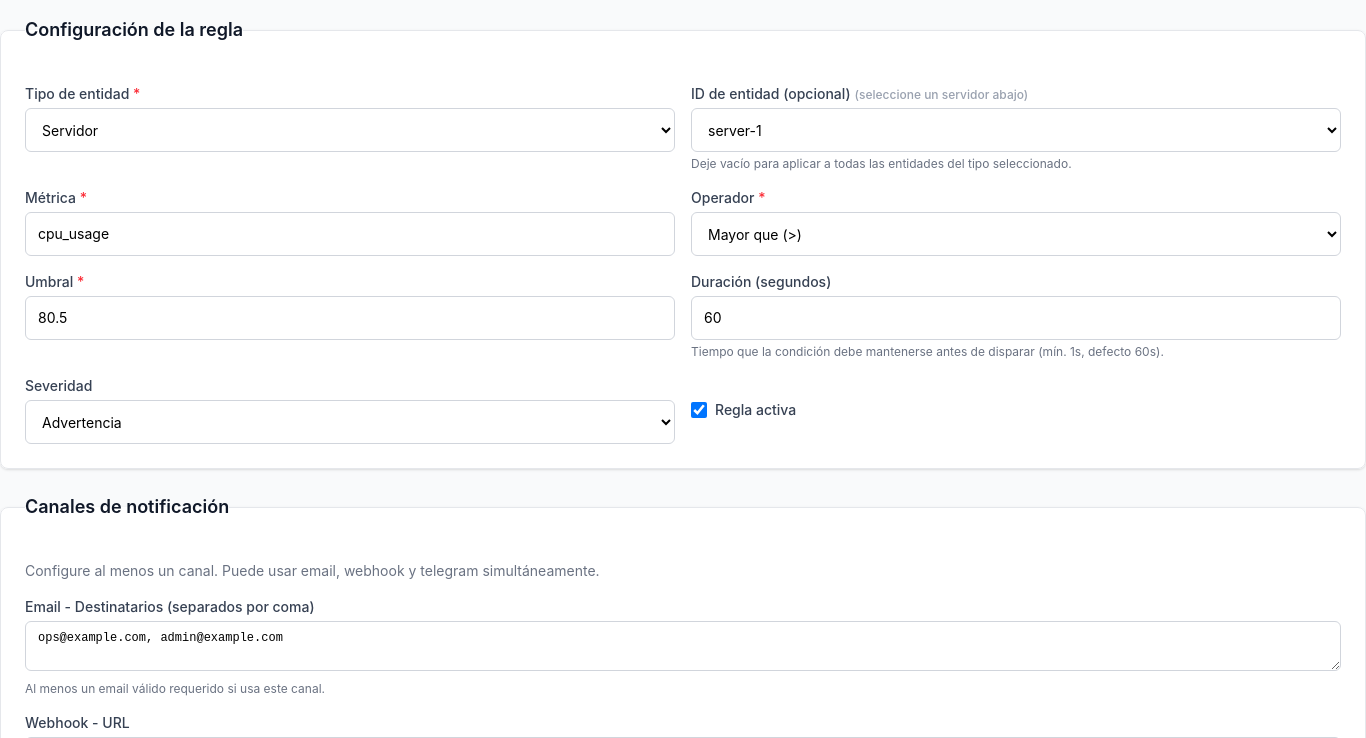
Scenario: EditRuleForm › validates duration_s as positive integer
Replace the text in the number field labelled "Duración (segundos)" with "0" at (1016, 318), box [691, 296, 1341, 340]
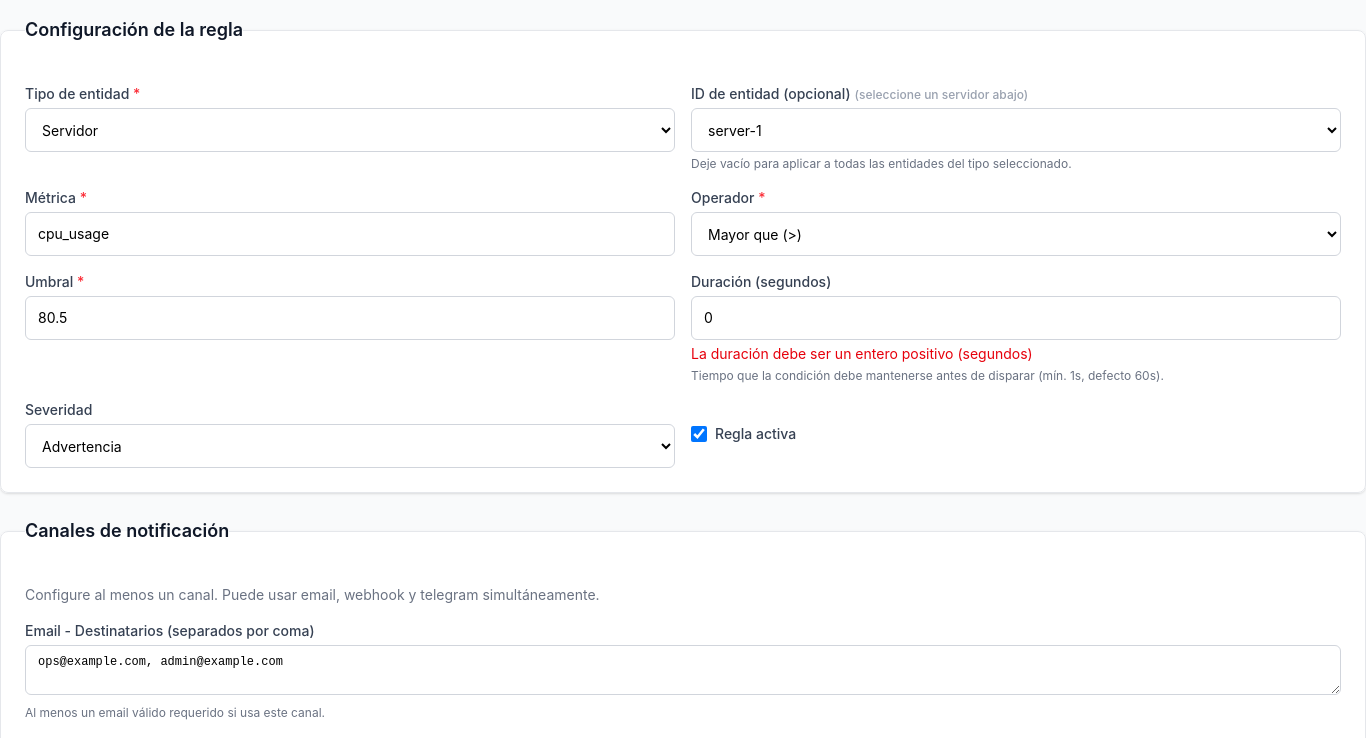
Expected: the text "La duración debe ser un entero positivo (segundos)" is shown, [691, 345, 1033, 362]
